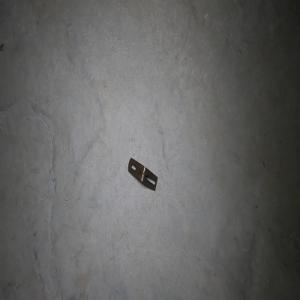MetalPart: (127, 156, 158, 192)
